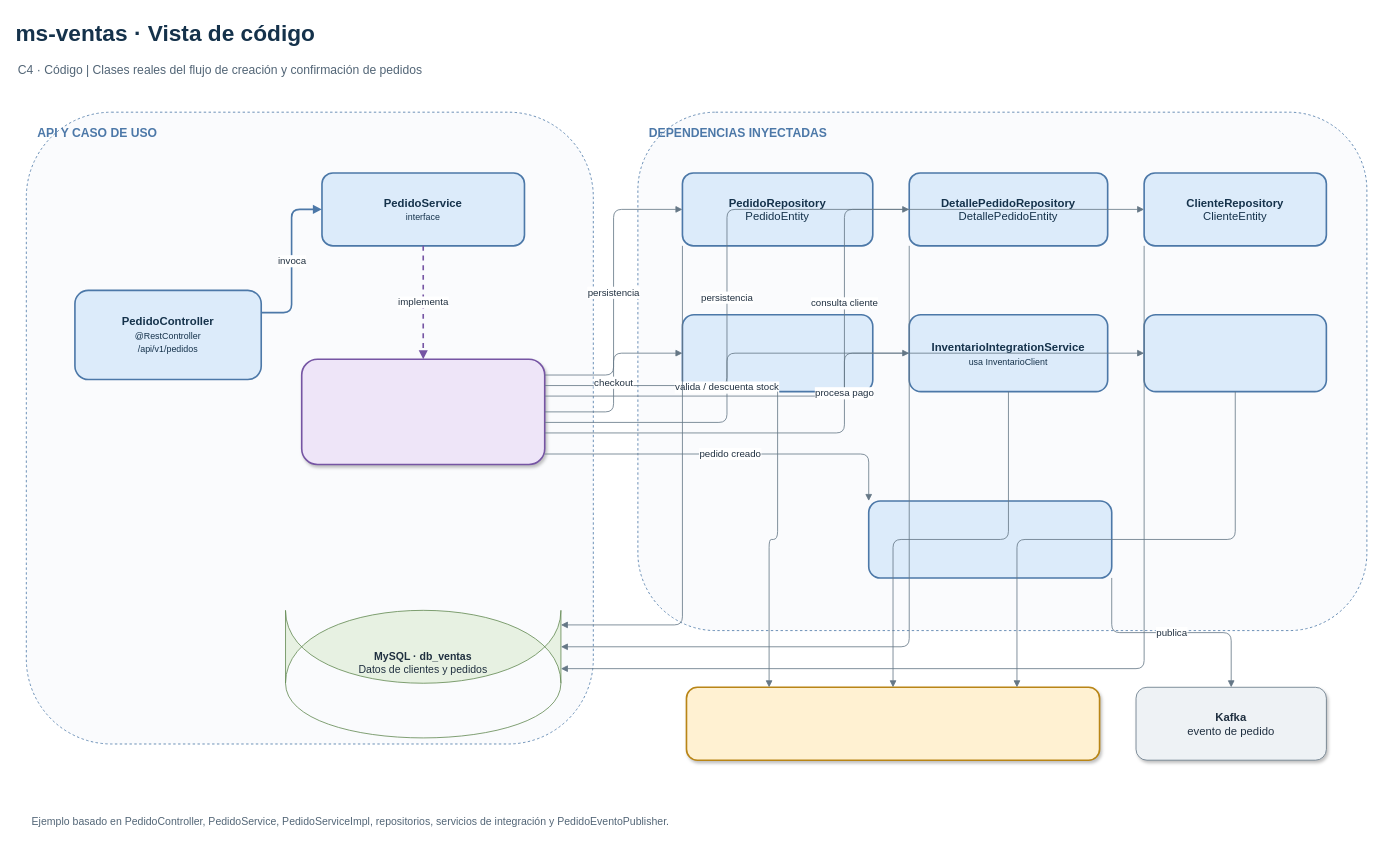
Image size: 1396x852. Some labels were removed from this diagram. The centre of each missing label's shape, as x and y in pixels:
CarritoIntegrationService usa CarritoClient: [777,352]
PagosIntegrationService usa PagosClient: [1235,352]
PedidoEventoPublisher KafkaTemplate → topic pedidos: [990,539]
PedidoServiceImpl @Service · @Transactional crear() · checkout · confirmar pago: [423,413]
Servicios remotos ms-carrito · ms-inventario · ms-pagos OpenFeign + Eureka: [893,724]
